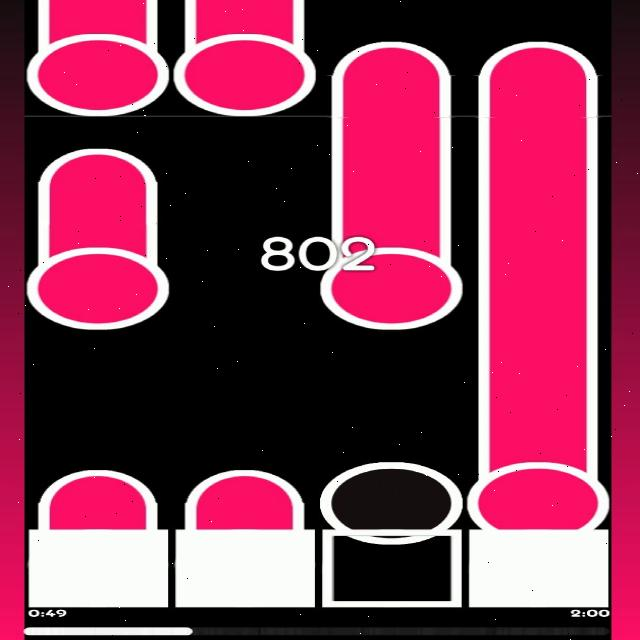end_hold: (319, 29, 463, 87), (34, 454, 162, 514), (36, 132, 163, 192), (176, 458, 309, 511), (476, 31, 603, 86)
note: (319, 462, 461, 544)
start_hold: (26, 230, 168, 332), (322, 229, 464, 331), (26, 21, 169, 117), (172, 25, 316, 116), (469, 450, 607, 532)
